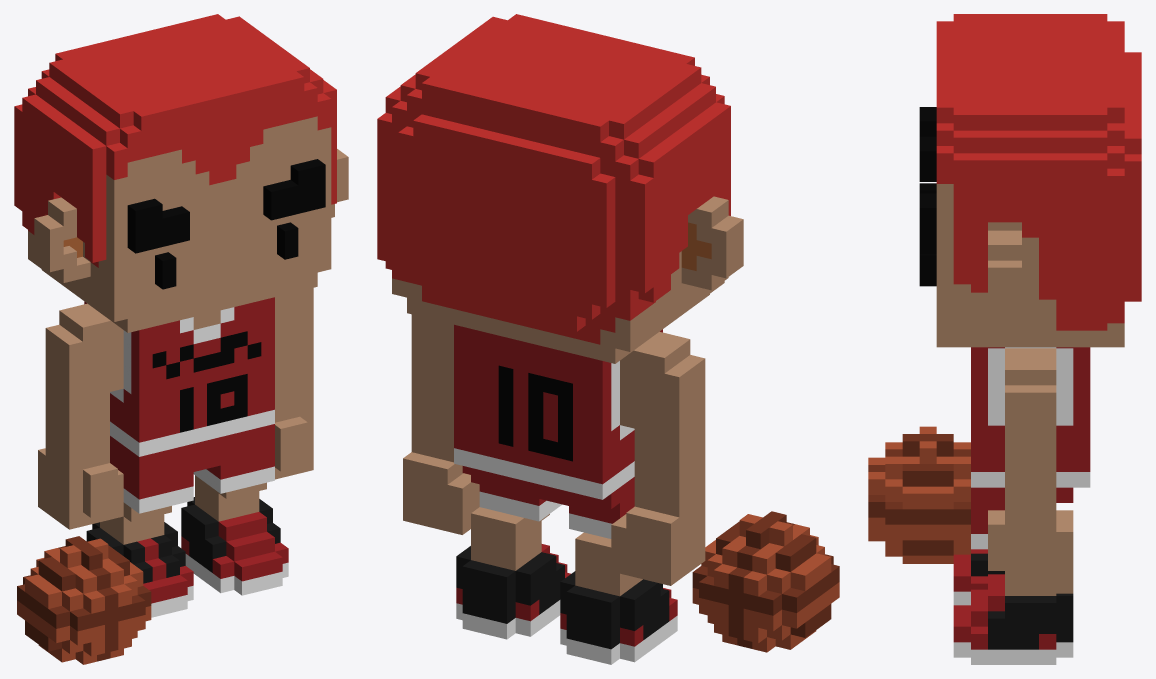
File: asset.glb
3 views of the same model, side by side, from view 1: azimuth 30°, elevation 25°; view 2: azimuth 150°, elevation 25°; view 3: azimuth 270°, elevation 25° (orthographic). The views are drawn at different scales.
Parts seen in each view (by area): view 1: Cube.1265; view 2: Cube.1265; view 3: Cube.1265.
Part boxes in pixels (x1,y1,x2,y2): Cube.1265: [14, 14, 348, 664]; Cube.1265: [377, 14, 839, 664]; Cube.1265: [868, 14, 1141, 664].
Size of the model in its own units: 25 by 36 by 16.
